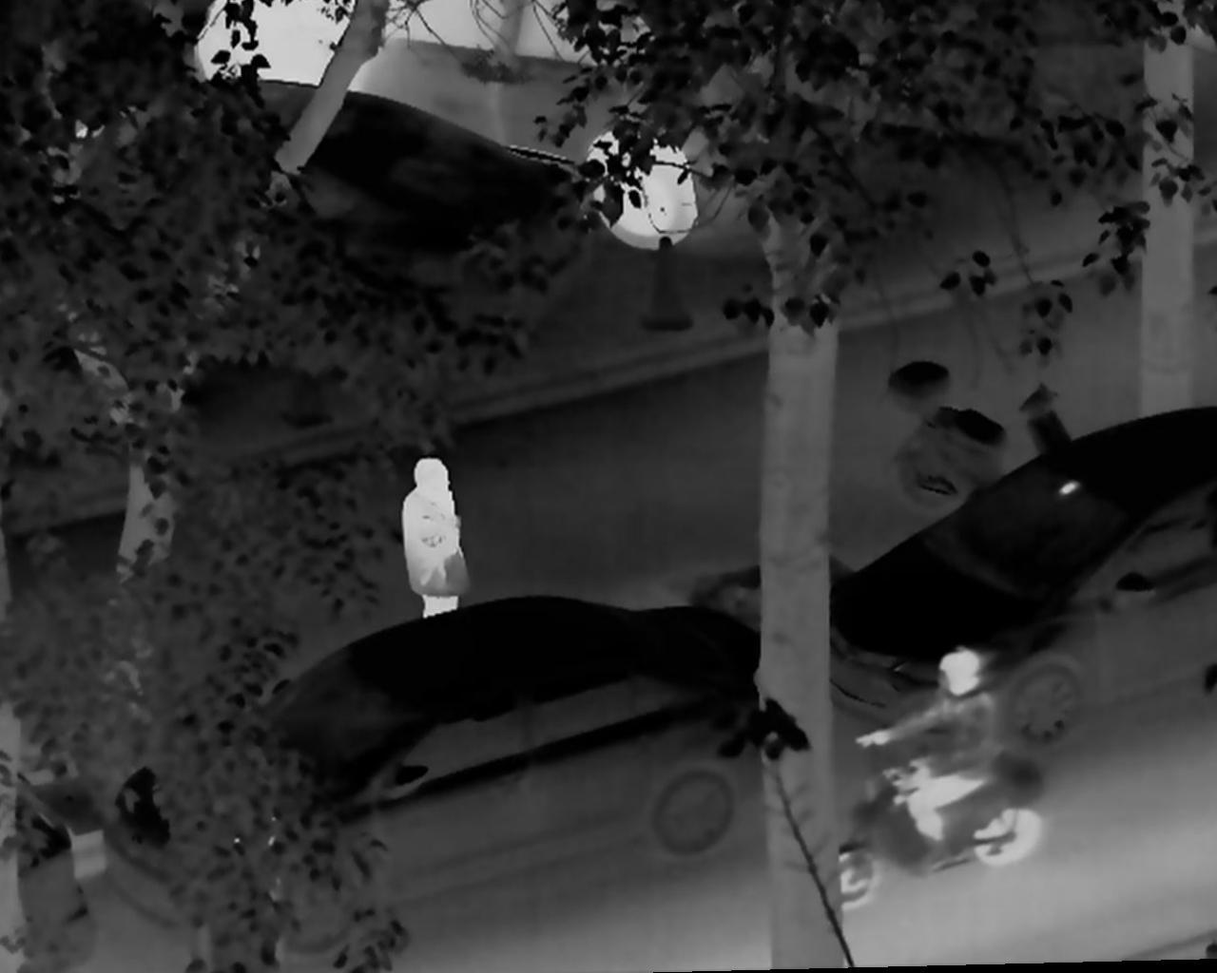person: (853, 638, 995, 854), (395, 454, 470, 626)
